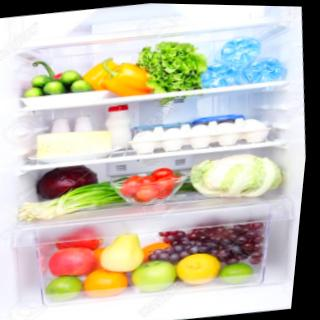Drinks: (213, 32, 265, 65), (239, 54, 289, 87), (193, 61, 245, 92)
Egg: (125, 122, 165, 156), (154, 121, 192, 156), (180, 120, 218, 155), (205, 115, 243, 150), (234, 114, 272, 149)
fruit: (167, 249, 225, 286), (184, 226, 260, 254), (45, 242, 100, 277), (132, 260, 181, 291)
